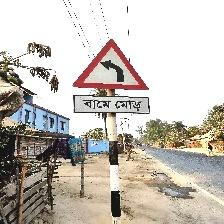Left-Turn: (72, 40, 150, 116)
